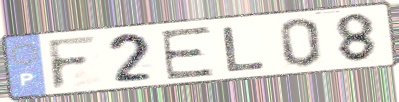0: (277, 15, 326, 69)
2: (105, 31, 160, 87)
8: (333, 11, 379, 65)
E: (158, 24, 217, 82)
F: (45, 34, 101, 92)
L: (221, 24, 269, 74)
